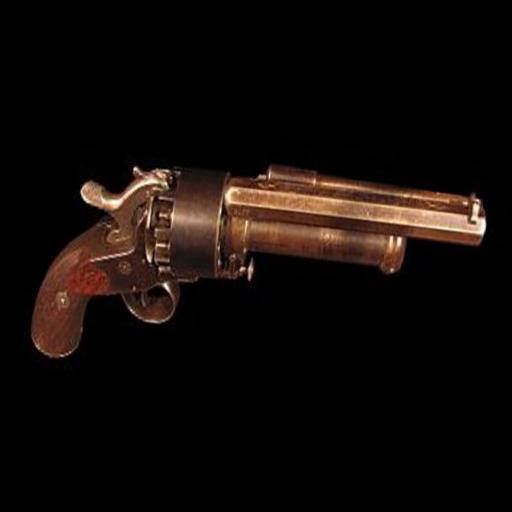Handgun: (26, 118, 494, 412)
